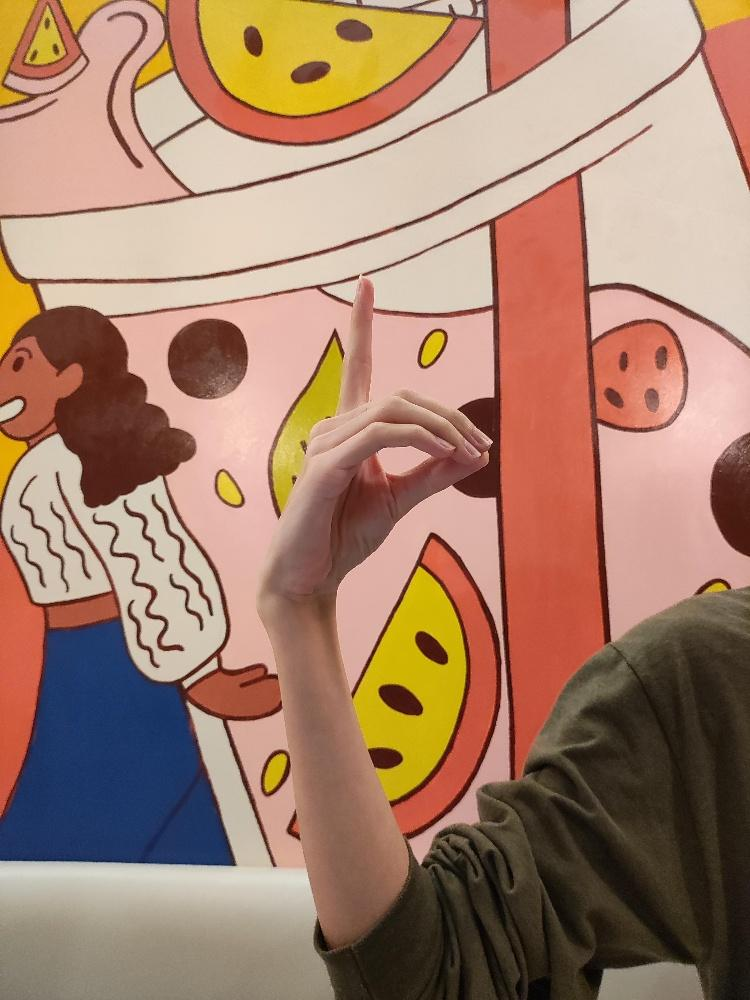d: (251, 270, 498, 601)
